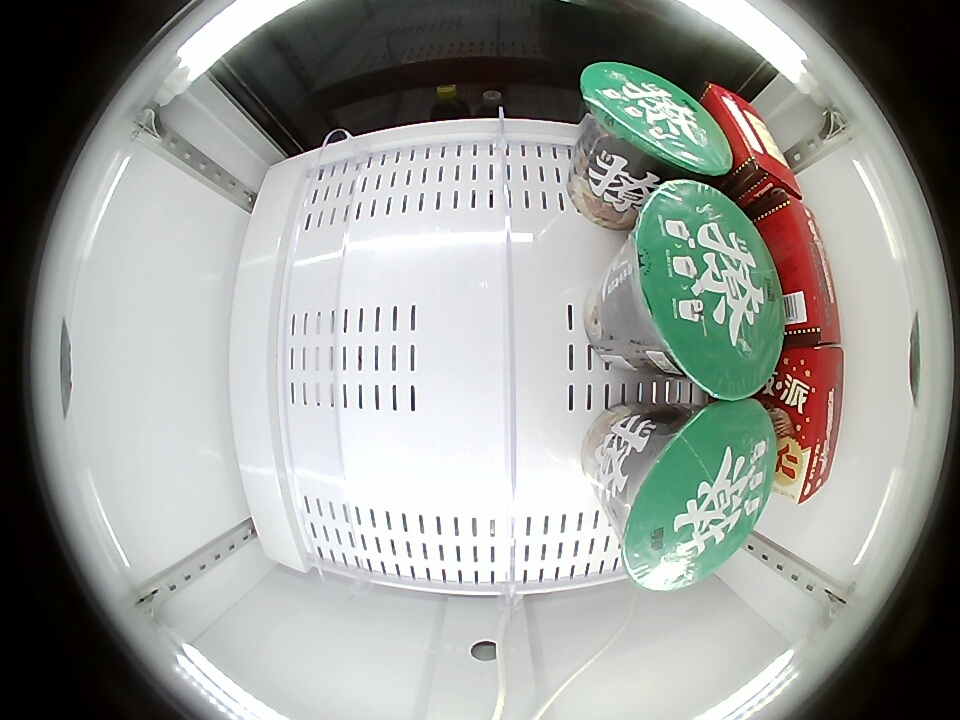haoliyou: (756, 192, 842, 343), (770, 344, 845, 503), (705, 83, 803, 204)
liaomian: (624, 178, 787, 400), (615, 400, 779, 592), (581, 62, 733, 182)
